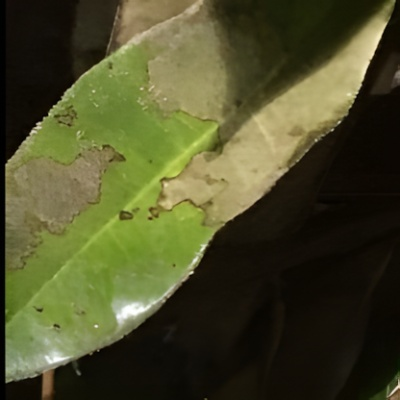Leaf_Rhizoctonia: (5, 0, 400, 394)
